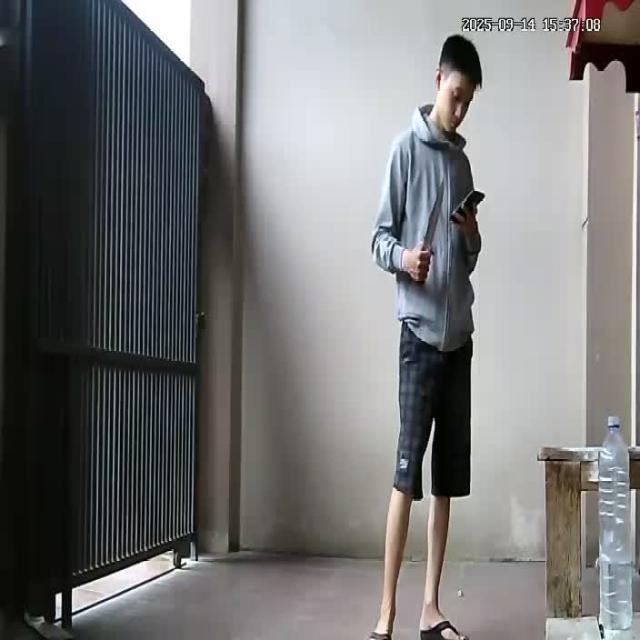senjata_tajam: (422, 176, 446, 253)
